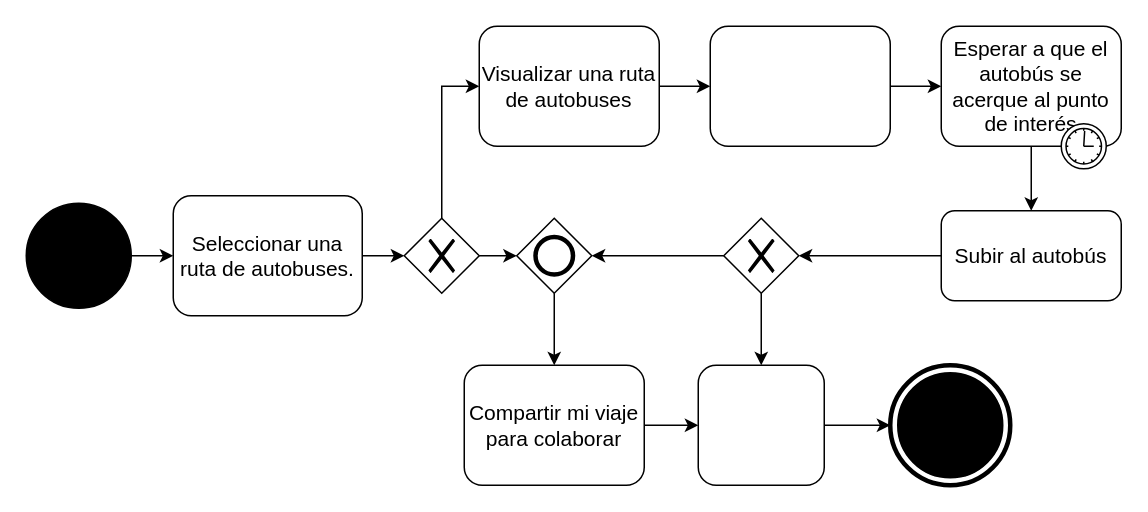
Image size: 1148x512. Some labels were removed from this diagram. Here are the shapes that lost their labels. From the top down, the box of each, then its label:
(709, 25, 890, 146): Seleccionar un punto de espera (parabús)
(697, 364, 824, 485): Detener proceso
